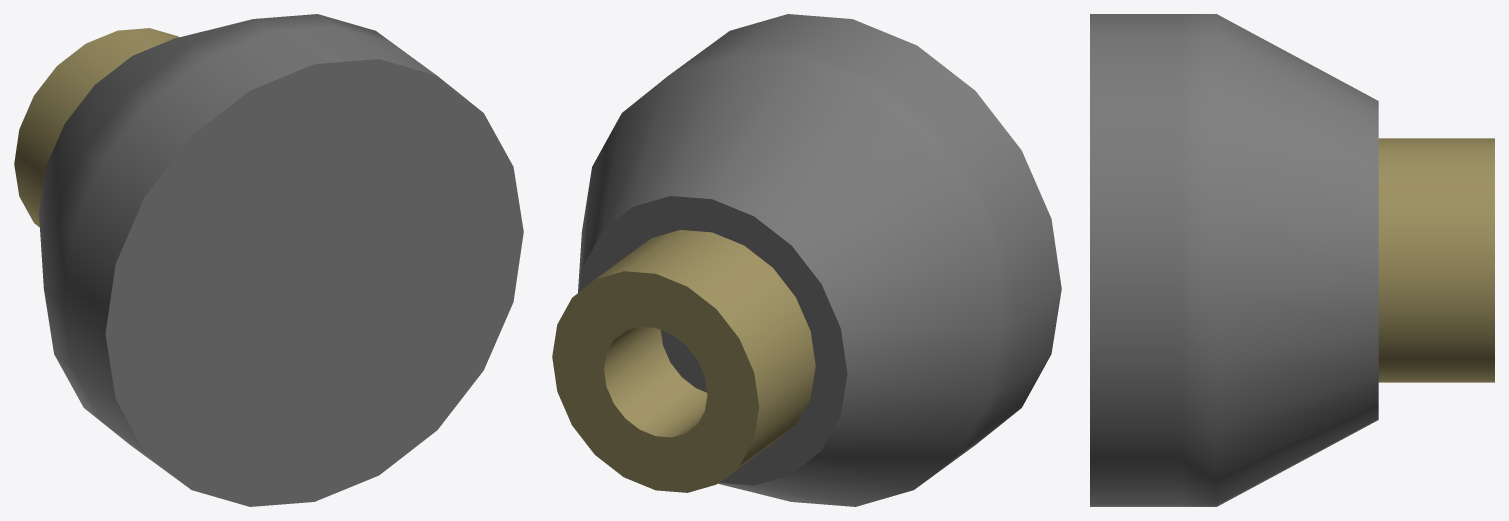
Rendered from detecteur_laser.fbx.
The picture shows the model from 3 angles, left to right: view 1: azimuth 30°, elevation 25°; view 2: azimuth 150°, elevation 25°; view 3: azimuth 270°, elevation 25°; orthographic projection. The views are drawn at different scales.
Visible parts, largest first — view 1: base, laser; view 2: base, laser; view 3: base, laser.
Boxes of the visible parts, x1,y1,x2,y2 form: base: (39,14,523,506); laser: (14,28,179,227); base: (578,14,1061,506); laser: (552,230,815,492); base: (1090,14,1378,506); laser: (1378,138,1494,382).
Bounding box in the file's own units: 0.0404 × 0.0404 × 0.0329.
